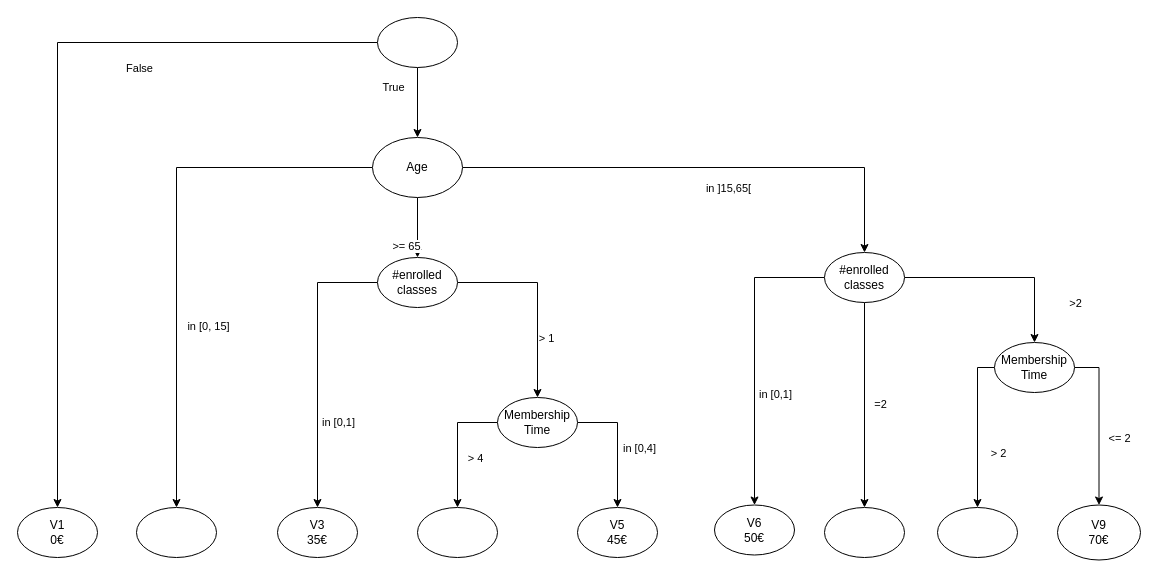
Image size: 1158x578. Some labels were removed from this diagram. The shapes that lost their labels are listed below. From the top down, each one's centre as x and y in pixels, then its label:
point 417,42: Active
point 176,532: V2 20€
point 457,532: V4 40€
point 864,532: V7 60€
point 977,532: V8 65€
